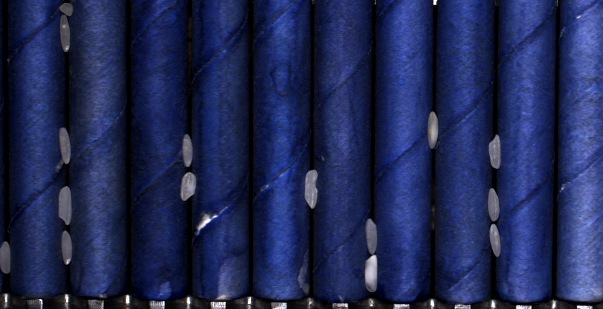broken_grain: (56, 1, 75, 17)
complete_grain: (485, 132, 505, 173), (303, 165, 320, 211), (57, 184, 73, 227), (56, 124, 72, 166), (363, 214, 379, 255), (486, 223, 504, 258), (486, 185, 502, 222), (180, 130, 194, 170), (1, 235, 13, 277)
milky_broken_grain: (180, 171, 199, 206)
milky_grain: (362, 254, 382, 294), (425, 109, 444, 150), (57, 13, 72, 53)
